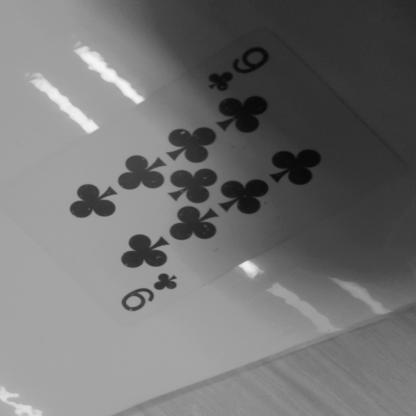9C: (110, 261, 197, 315), (199, 47, 280, 96)
